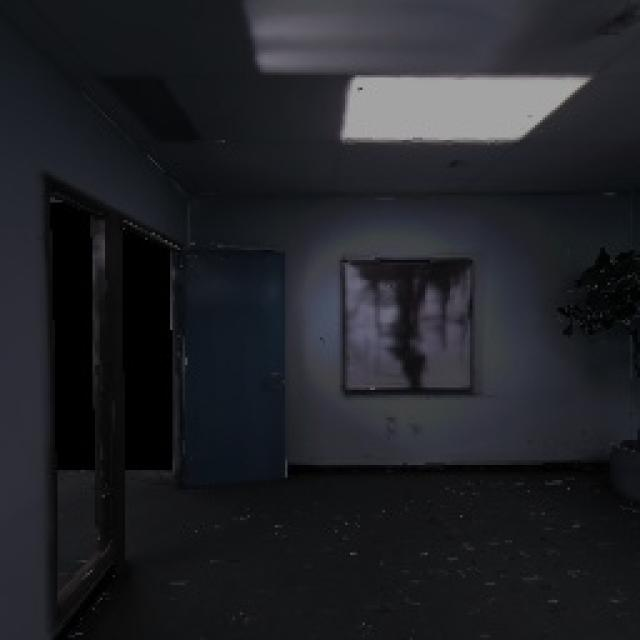door: (164, 240, 302, 500)
door-frame: (44, 188, 190, 580)
